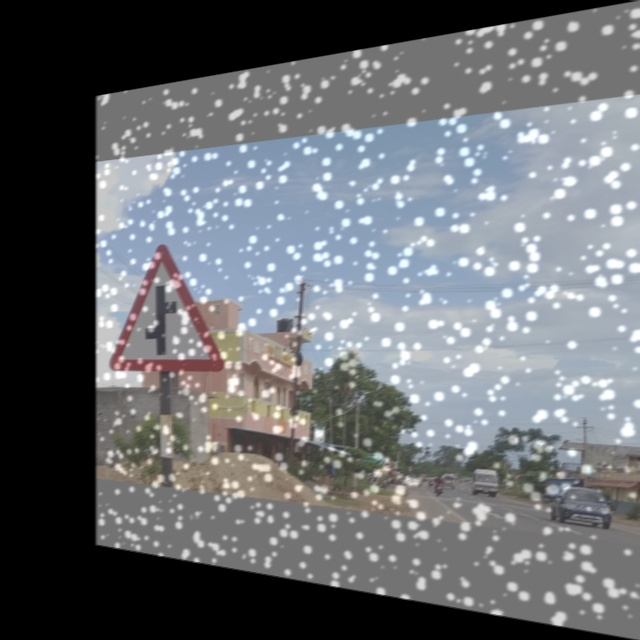Staggered_Intersection: (111, 234, 232, 376)
